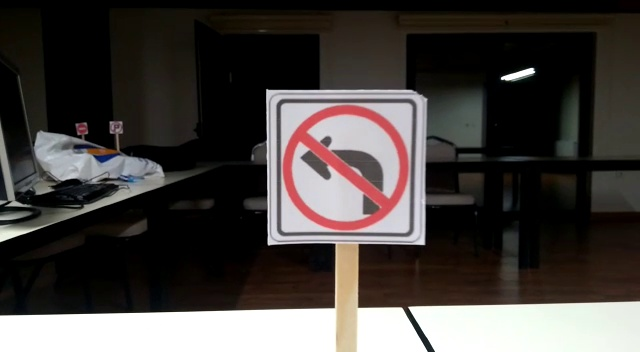sola_donulmez: (274, 102, 418, 232)
